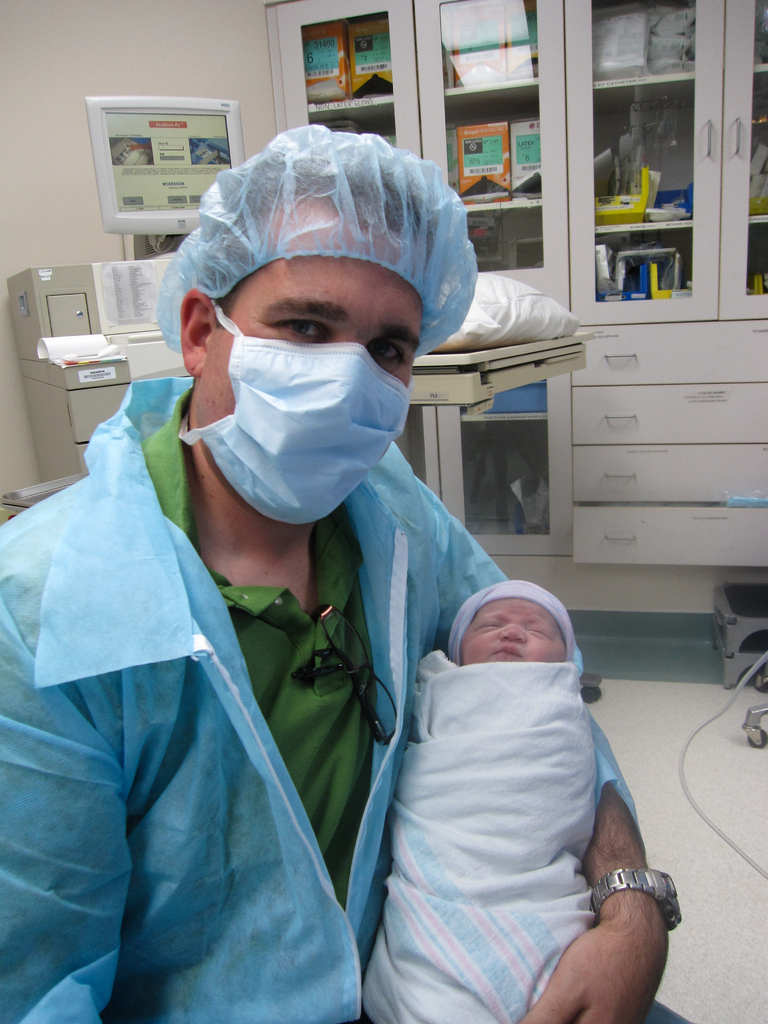Person: (0, 121, 703, 1024), (361, 577, 600, 1024)
